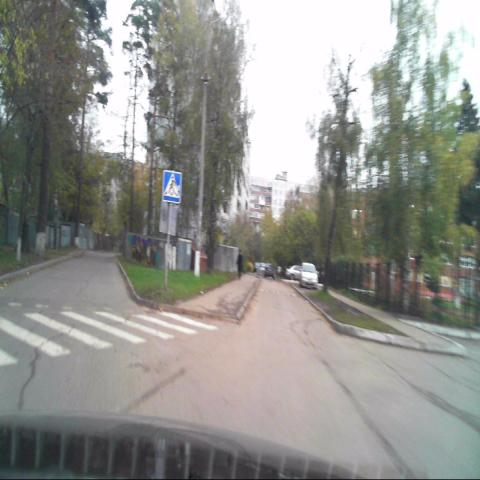5_19_1: (163, 170, 182, 203)
